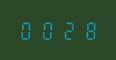eight: (78, 20, 97, 40)
two: (58, 20, 77, 40)
zero: (18, 20, 37, 40), (38, 20, 57, 40)
